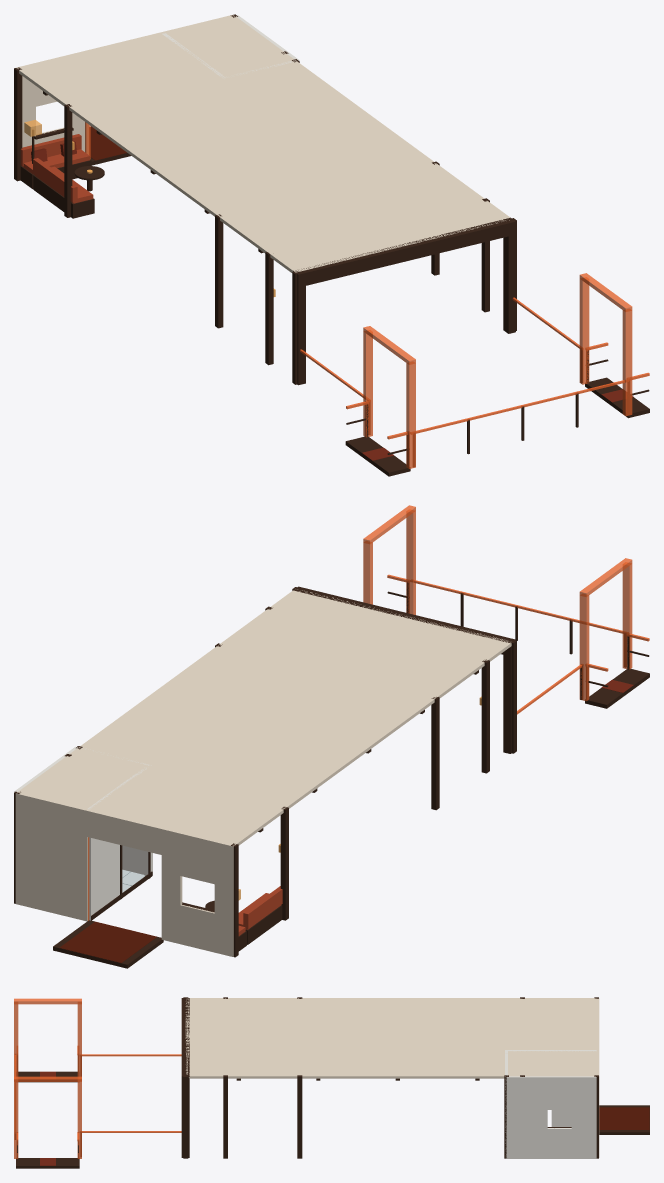
Rendered from skyfleet_bake3_01.glb.
3 renders of one model, top to bottom at view 1: azimuth 30°, elevation 25°; view 2: azimuth 150°, elevation 25°; view 3: azimuth 270°, elevation 25°, orthographic. The views are drawn at different scales.
Parts seen in each view (by area): view 1: baked; view 2: baked; view 3: baked.
Boxes of the visible parts, box(x1,y1,x2,y2) form: baked: box(14, 14, 649, 476); baked: box(14, 505, 649, 968); baked: box(14, 997, 649, 1168).
Size of the model in its own units: 8.4 by 3.52 by 23.99.
